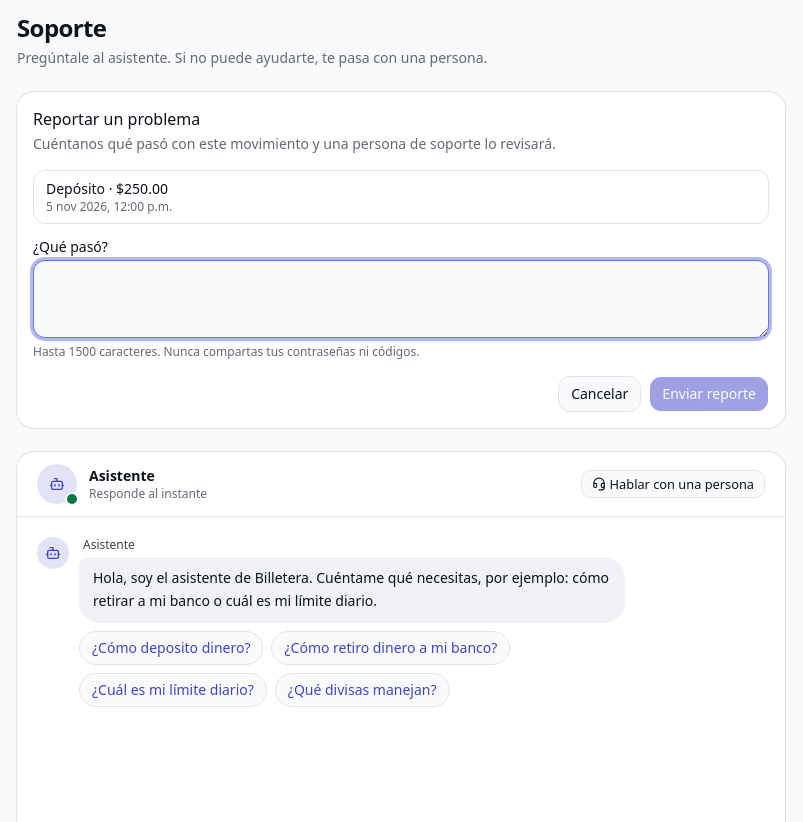
Test case: reporting a problem with a movement › names the movement and takes the customer to a person, before the bot can answer
Expected: the text "Depósito" is shown, [46,179,105,198]
Step 1. Type "Pagué y no llegó" into the text box labelled "¿Qué pasó?" → [401, 299], box [33,260,769,338]
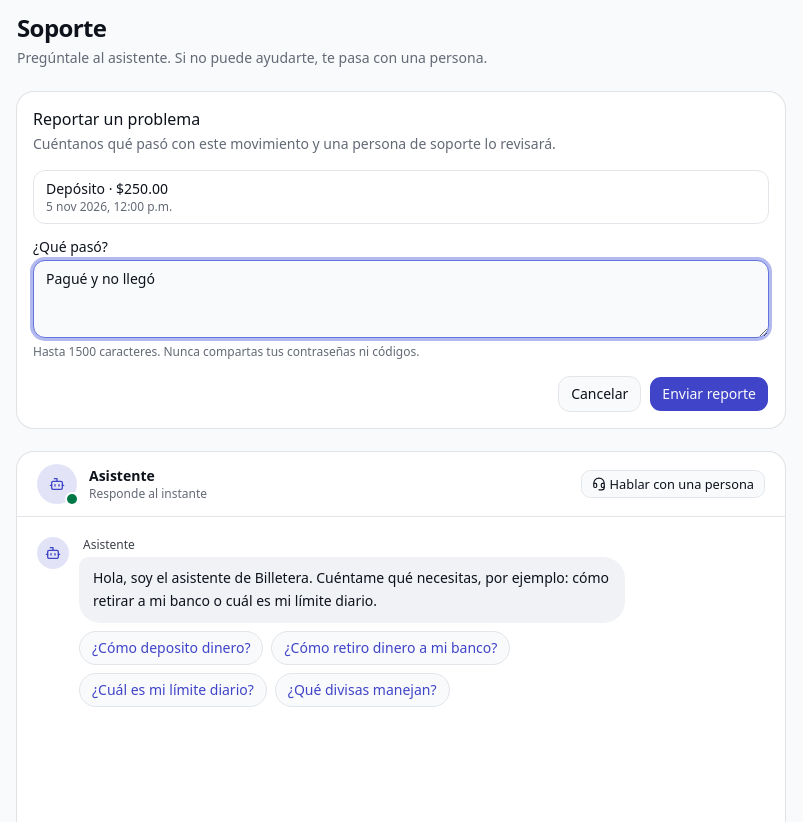
Step 2. Click the button "Enviar reporte" → [709, 394], box [649,376,769,412]
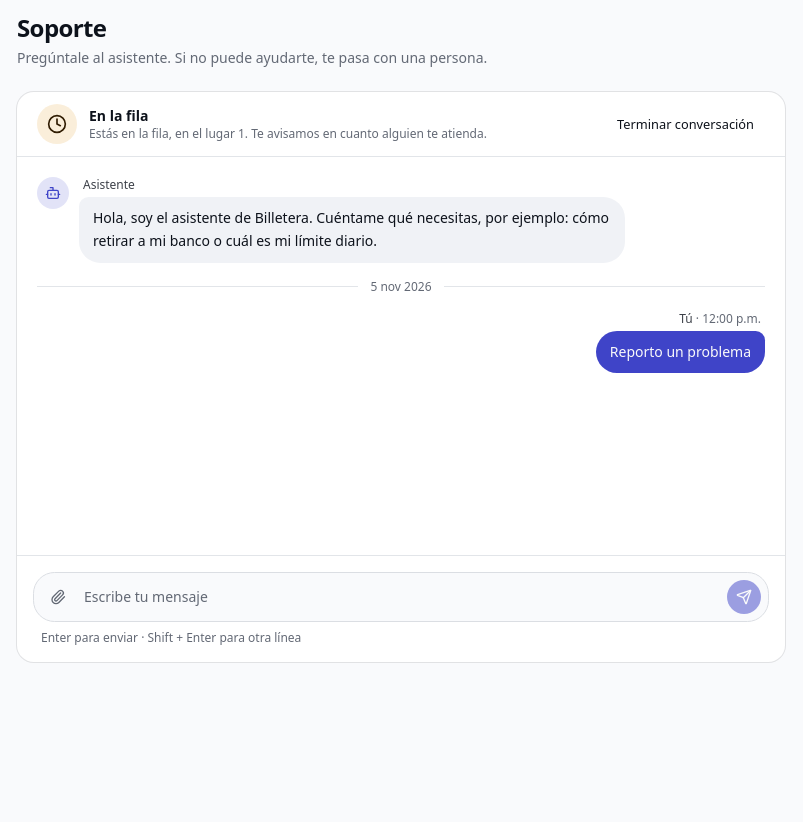
Now the label "¿Qué pasó?" is gone
